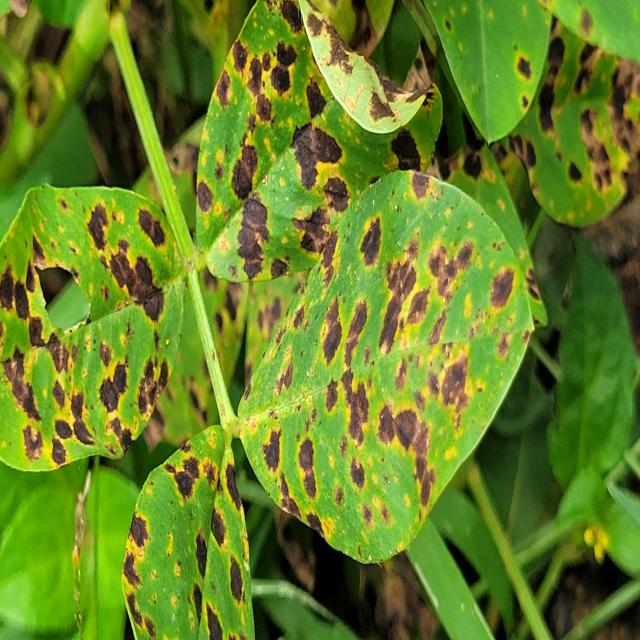Ground nut_tikka leaf spot: (240, 167, 534, 564), (195, 0, 444, 285), (2, 184, 190, 472), (122, 422, 256, 640)
